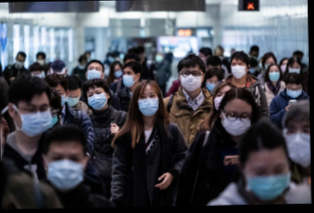with_mask: (244, 159, 291, 202), (45, 149, 83, 191), (16, 100, 52, 136), (284, 121, 311, 166), (221, 107, 251, 136), (136, 90, 159, 116), (181, 67, 203, 92), (87, 87, 108, 110), (230, 60, 247, 80), (121, 68, 136, 88), (85, 64, 101, 80), (65, 92, 81, 107), (286, 83, 302, 98), (268, 67, 282, 83), (205, 77, 219, 93), (288, 65, 301, 75), (112, 66, 122, 77)
